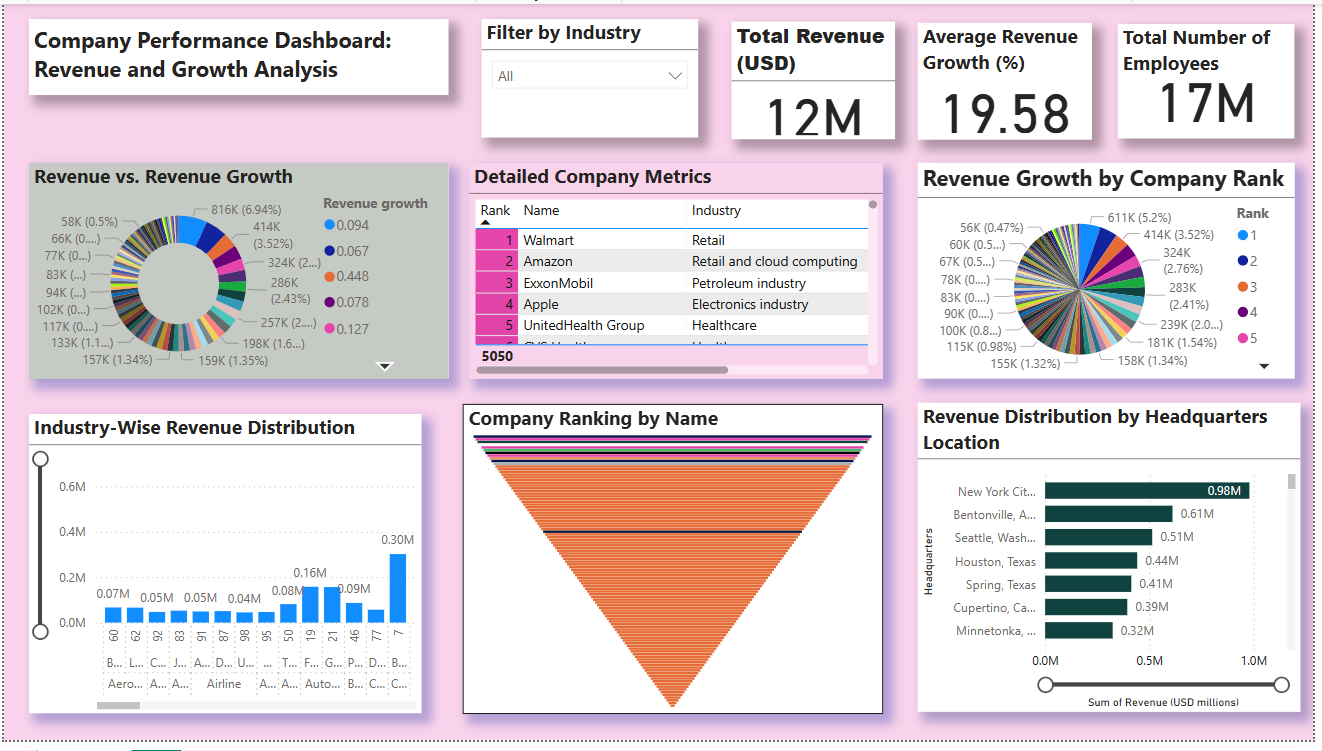

This screenshot's page, from the dashboard's own definition file:
{"tool":"powerbi","page":{"name":"Page 1","canvas":[1280,720],"ordinal":0},"visuals":[{"type":"card","title":"Total Revenue (USD)","fields":{"Values":["Sum(companies.Revenue (USD millions))"]},"box":[711.3,17.3,160.1,115.4],"z":0},{"type":"card","title":"Average Revenue Growth (%)","fields":{"Values":["Sum(companies.Revenue growth)"]},"box":[893.3,18.3,170,114.4],"z":1000},{"type":"card","title":"Total Number of Employees","fields":{"Values":["Sum(companies.Employees)"]},"box":[1089.5,19.6,172.6,111.8],"z":2000},{"type":"columnChart","title":"Industry-Wise Revenue Distribution","fields":{"Category":["companies.Industry","companies.Name","companies.Rank"],"Y":["Sum(companies.Revenue (USD millions))"]},"box":[24.5,401.1,383.8,292.9],"z":3000},{"type":"barChart","title":"Revenue Distribution by Headquarters Location","fields":{"Y":["Sum(companies.Revenue (USD millions))"],"Category":["companies.Headquarters"]},"box":[893.3,390.4,374.7,302.8],"z":4000},{"type":"tableEx","title":"Detailed Company Metrics","fields":{"Values":["Sum(companies.Rank)","companies.Name","companies.Industry","Sum(companies.Revenue (USD millions))"]},"box":[467.6,155.6,404.1,211.2],"z":5000},{"type":"slicer","title":"Filter by Industry","fields":{"Values":["companies.Industry"]},"box":[467.6,15,211.9,115.7],"z":6000},{"type":"textbox","box":[24.9,15,410.7,74.6],"z":7000},{"type":"pieChart","title":"Revenue Growth by Company Rank","fields":{"Y":["Sum(companies.Revenue (USD millions))"],"Category":["companies.Rank"]},"box":[893.3,155.6,368.8,211.2],"z":8000},{"type":"donutChart","title":"Revenue vs. Revenue Growth","fields":{"Category":["companies.Revenue growth"],"Y":["Sum(companies.Revenue (USD millions))"]},"box":[24.9,155,410.7,211.9],"z":9000},{"type":"funnel","title":"Company Ranking by Name","fields":{"Y":["Sum(companies.Rank)"],"Category":["companies.Name"]},"box":[448.7,391,411.2,303],"z":10000}]}

Visuals, with their boxes in screenshot pixels (x1, y1, x2, y2), scaled from the page's 1280x720 canvas onto the 1322x751 screenshot:
"Total Revenue (USD)" card: 735:18:900:138
"Average Revenue Growth (%)" card: 923:19:1098:138
"Total Number of Employees" card: 1125:20:1304:137
"Industry-Wise Revenue Distribution" columnChart: 25:418:422:724
"Revenue Distribution by Headquarters Location" barChart: 923:407:1310:723
"Detailed Company Metrics" tableEx: 483:162:900:383
"Filter by Industry" slicer: 483:16:702:136
textbox: 26:16:450:93
"Revenue Growth by Company Rank" pieChart: 923:162:1304:383
"Revenue vs. Revenue Growth" donutChart: 26:162:450:383
"Company Ranking by Name" funnel: 463:408:888:724
